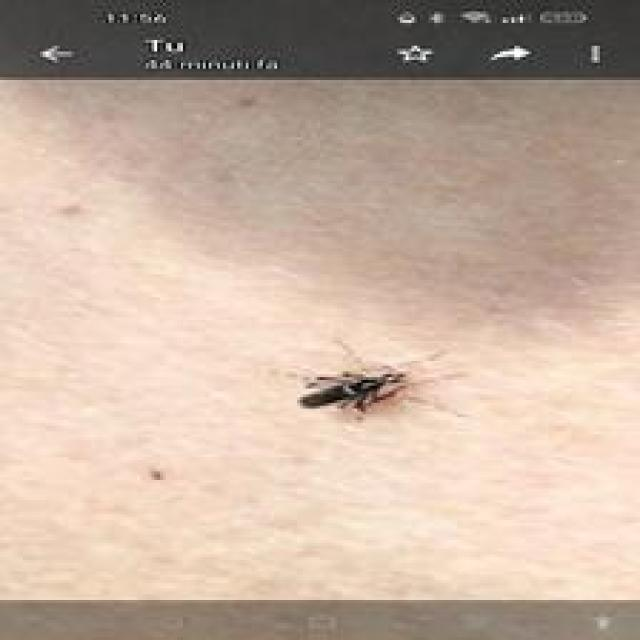Aedes albopictus: (297, 366, 409, 414)
